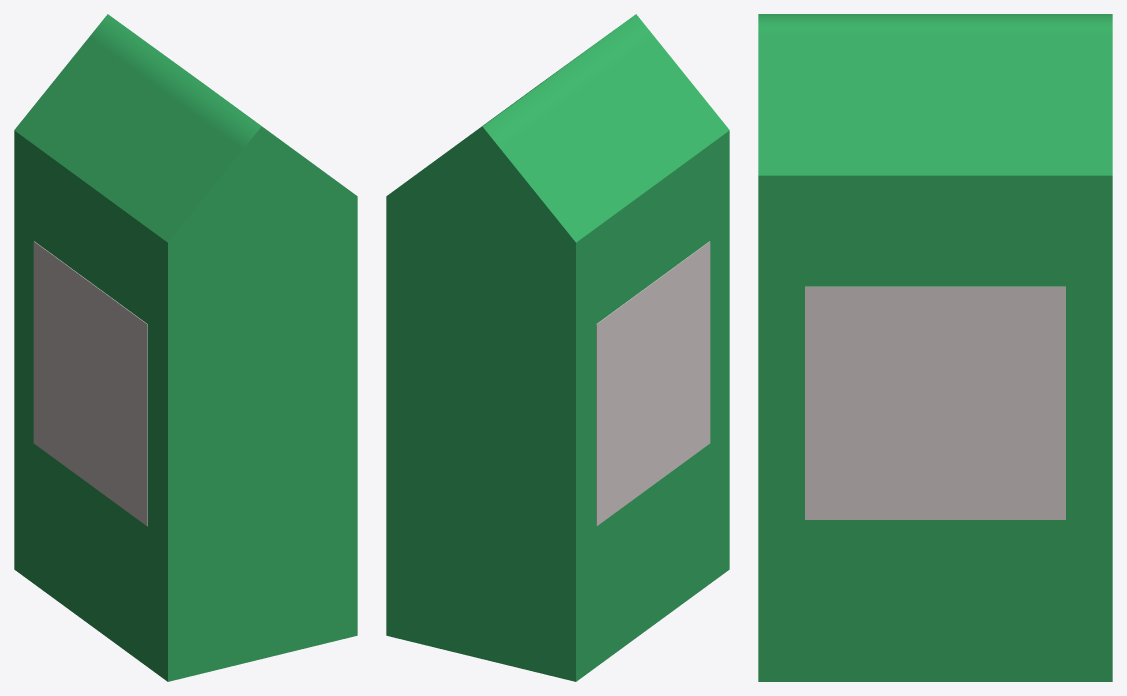
The model's file is fertilizer.fbx.
3 renders of one model, left to right at view 1: azimuth 30°, elevation 25°; view 2: azimuth 150°, elevation 25°; view 3: azimuth 270°, elevation 25°, orthographic. The views are drawn at different scales.
Visible parts, largest first — view 1: FertBody, FertLabel; view 2: FertBody, FertLabel; view 3: FertBody, FertLabel.
Boxes of the visible parts, x1,y1,x2,y2 form: FertBody: (14, 14, 357, 681); FertLabel: (33, 241, 147, 526); FertBody: (386, 14, 729, 681); FertLabel: (596, 241, 710, 526); FertBody: (758, 14, 1112, 681); FertLabel: (805, 286, 1065, 519).
Bounding box in the file's own units: 2.23 × 5.94 × 3.11.
